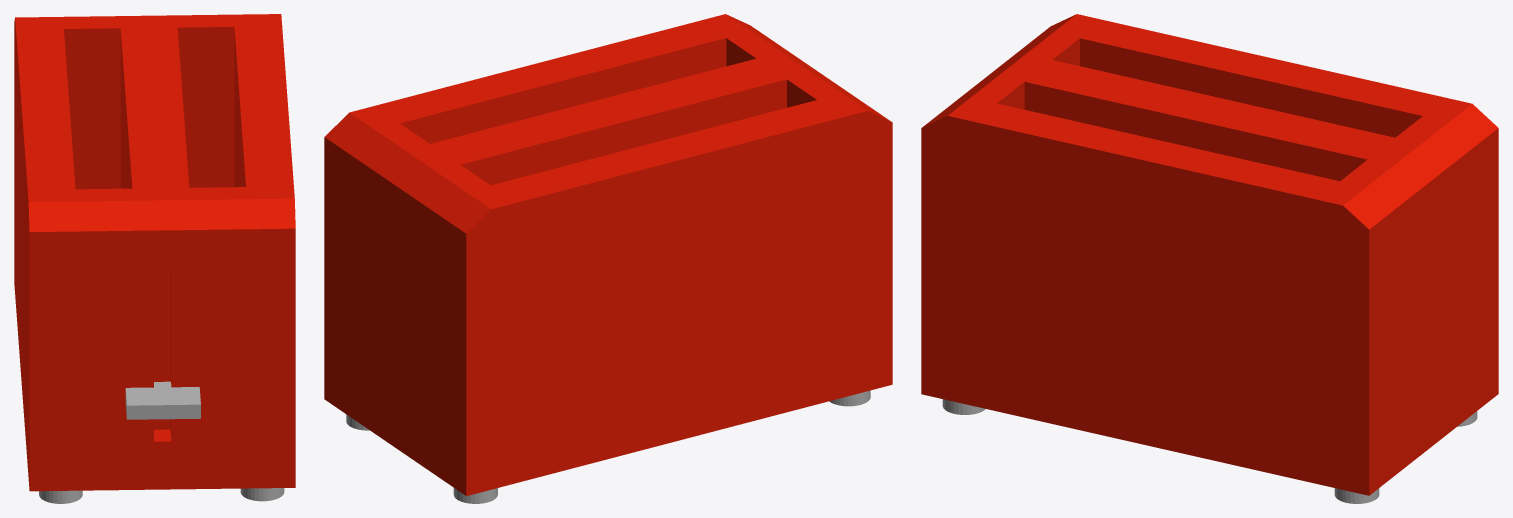
File: 042820antToaster.gltf
The picture shows the model from 3 angles, left to right: view 1: azimuth 30°, elevation 25°; view 2: azimuth 150°, elevation 25°; view 3: azimuth 270°, elevation 25°; orthographic projection. The views are drawn at different scales.
Visible parts, largest first — view 1: Cube, Cube.001, Cylinder; view 2: Cube, Cylinder; view 3: Cube, Cylinder.
Boxes of the visible parts, left/top/right/bottom form: Cube: left=14, top=14, right=295, bottom=491; Cube.001: left=125, top=381, right=200, bottom=419; Cylinder: left=39, top=488, right=284, bottom=503; Cube: left=324, top=14, right=892, bottom=495; Cylinder: left=346, top=390, right=870, bottom=503; Cube: left=921, top=14, right=1498, bottom=495; Cylinder: left=942, top=399, right=1477, bottom=503.
Bounding box in the file's own units: 1.68 × 1.16 × 2.01.
